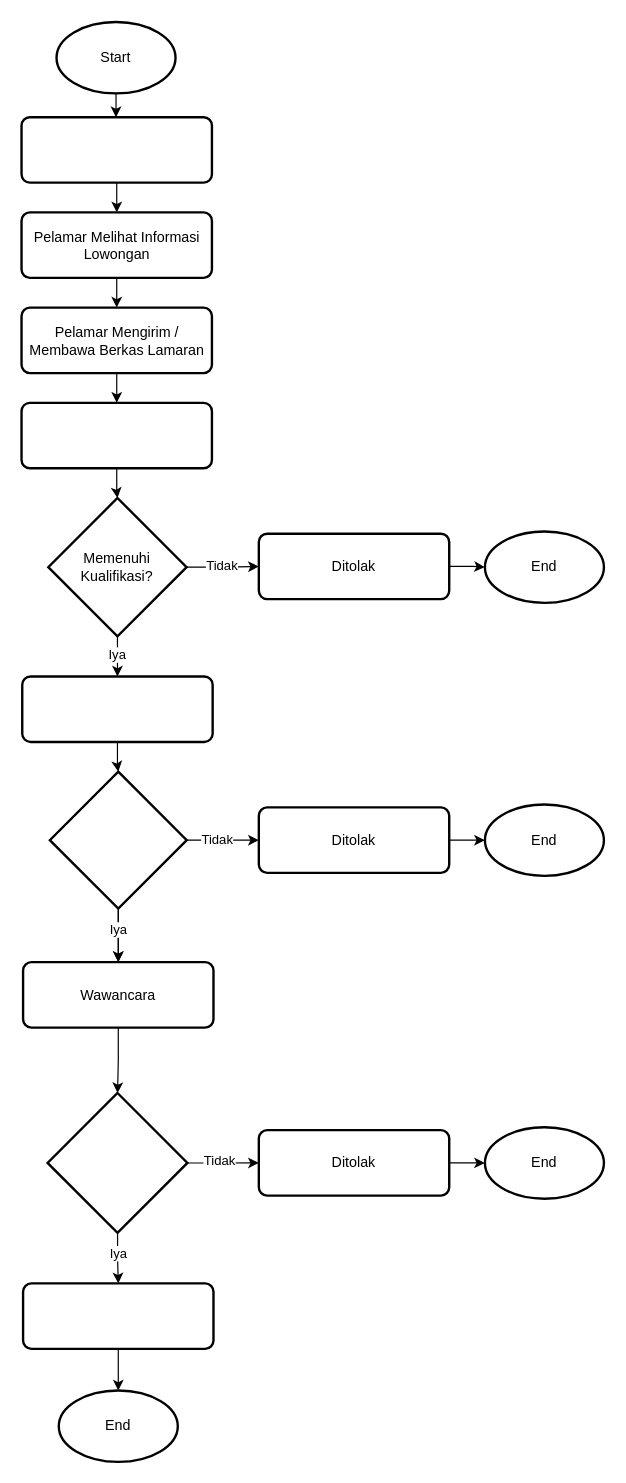
The diagram is 626 pixels wide and 1483 high, and some of its shapes have lost their labels. The centre of each missing label's shape, as x and y in pixels:
"Lulus Test?" belongs at pixel 117 839.
"Lulus Wawancara?" belongs at pixel 117 1162.
"Pembukaan Lowongan" belongs at pixel 116 149.
"Penawaran kerja" belongs at pixel 117 1315.
"Seleksi Administratif" belongs at pixel 116 435.
"Test Kemampuan" belongs at pixel 116 709.
